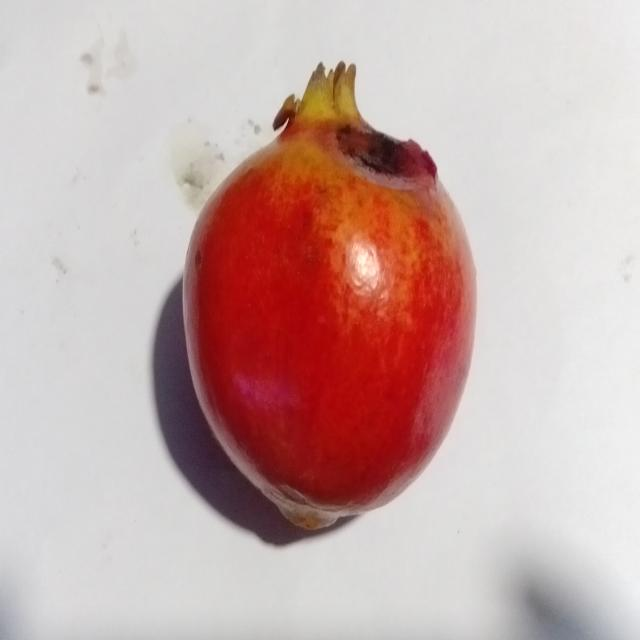Rotten: (178, 49, 480, 540)
